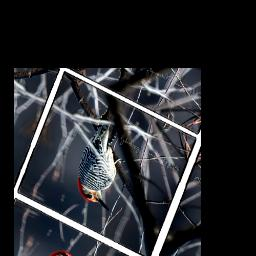Woodpecker: (64, 116, 140, 217)
